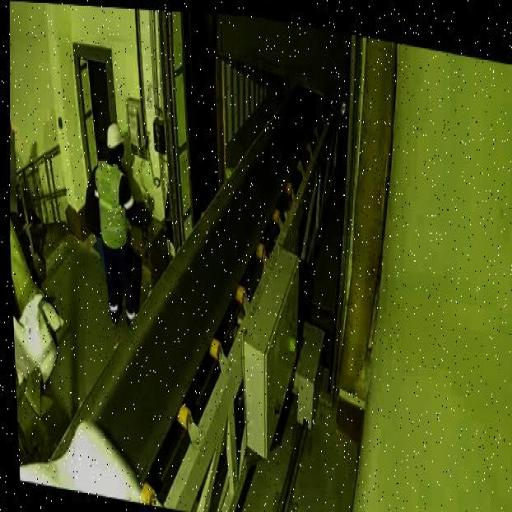c-belt-sack-count: (20, 423, 140, 502)
